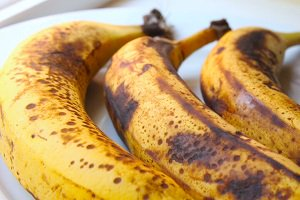rotten_banana: (101, 19, 300, 200)
